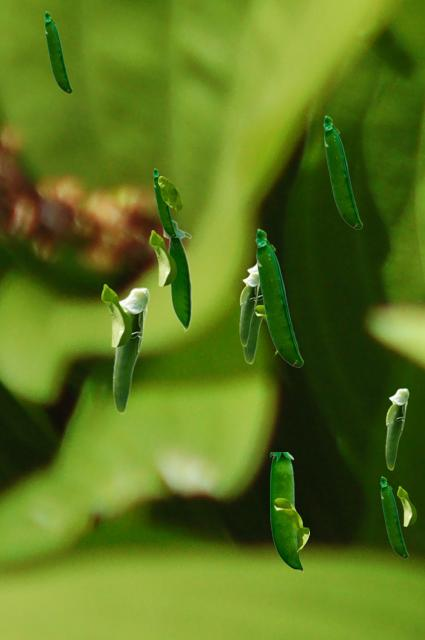pea: (255, 228, 302, 366), (112, 287, 149, 413), (323, 115, 361, 228), (270, 452, 302, 571), (162, 219, 191, 332), (380, 476, 407, 557), (44, 11, 71, 92), (242, 263, 262, 363), (385, 388, 408, 469), (153, 168, 175, 236), (239, 271, 259, 345)
